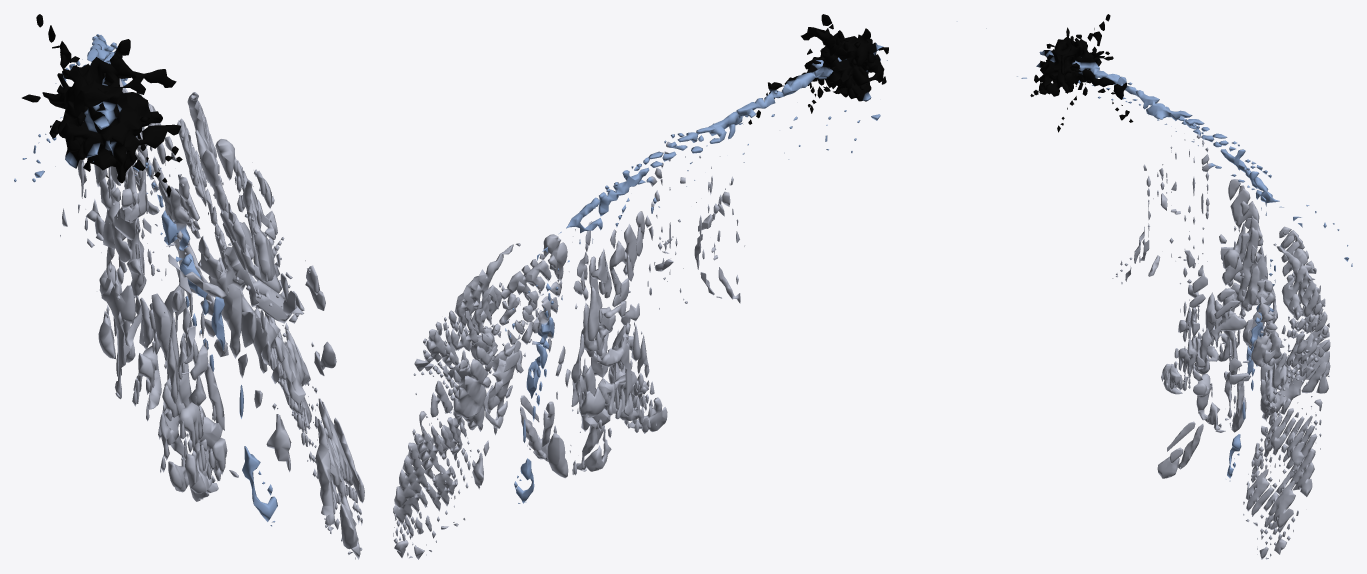
The model's file is feather.obj.
The picture shows the model from 3 angles, left to right: view 1: azimuth 30°, elevation 25°; view 2: azimuth 150°, elevation 25°; view 3: azimuth 270°, elevation 25°; orthographic projection. The views are drawn at different scales.
Parts seen in each view (by area): view 1: Layer_1; view 2: Layer_1; view 3: Layer_1.
Boxes of the visible parts, x1,y1,x2,y2 form: Layer_1: (14,14,364,559); Layer_1: (393,14,957,559); Layer_1: (986,14,1352,559).
Size of the model in its own units: 56.45 by 77.36 by 60.95.
